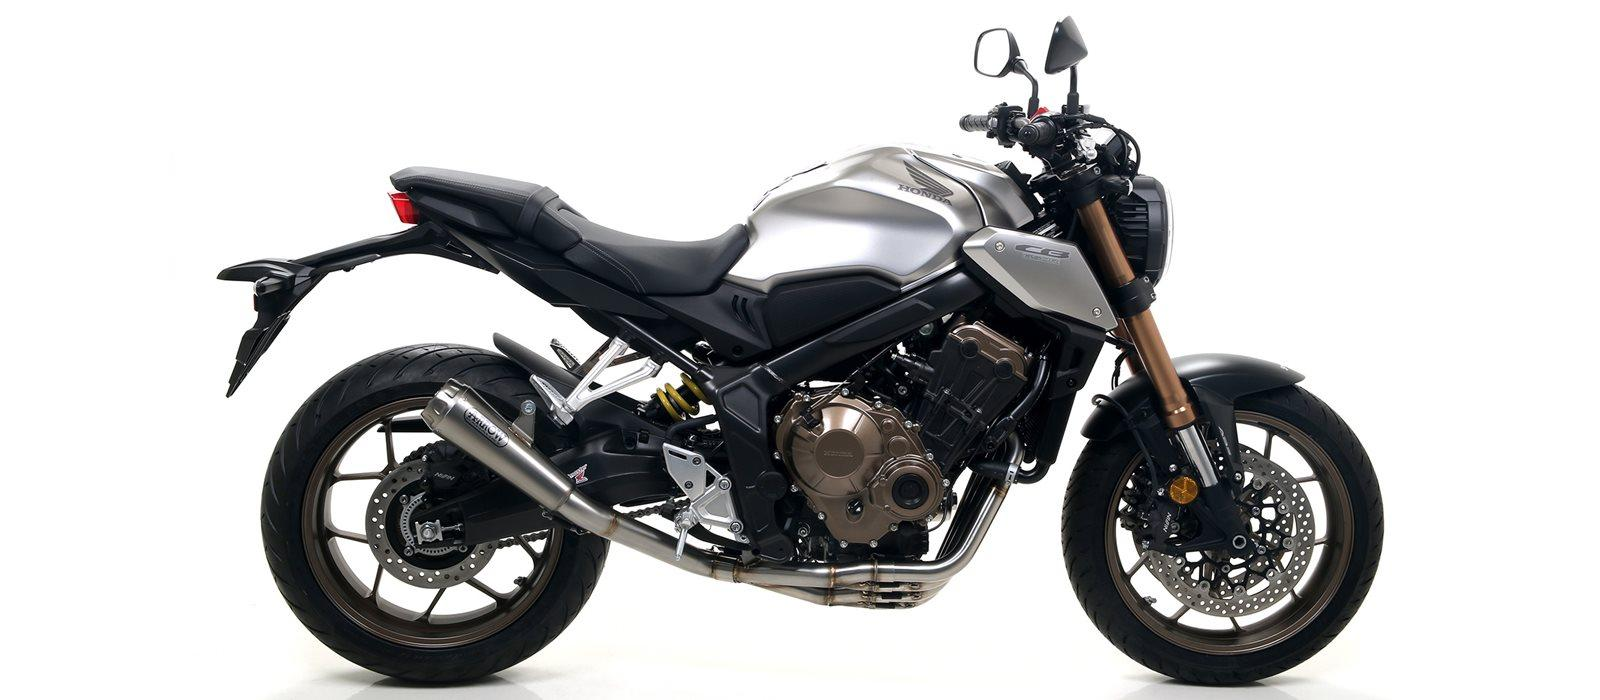engine-chasis: (657, 266, 1063, 566), (641, 371, 714, 427)
exhaust: (419, 378, 1010, 609), (974, 427, 1026, 467)
frontside: (960, 160, 1305, 556)
handlebar: (959, 14, 1142, 182)
motorbike: (217, 15, 1385, 684)
rearside: (215, 186, 773, 507), (410, 477, 562, 548)
seat: (390, 166, 748, 296)
tank: (720, 142, 1043, 351)
wheel: (260, 343, 611, 684), (1060, 378, 1385, 686), (1090, 393, 1159, 497), (1105, 331, 1138, 392), (621, 498, 692, 519)
